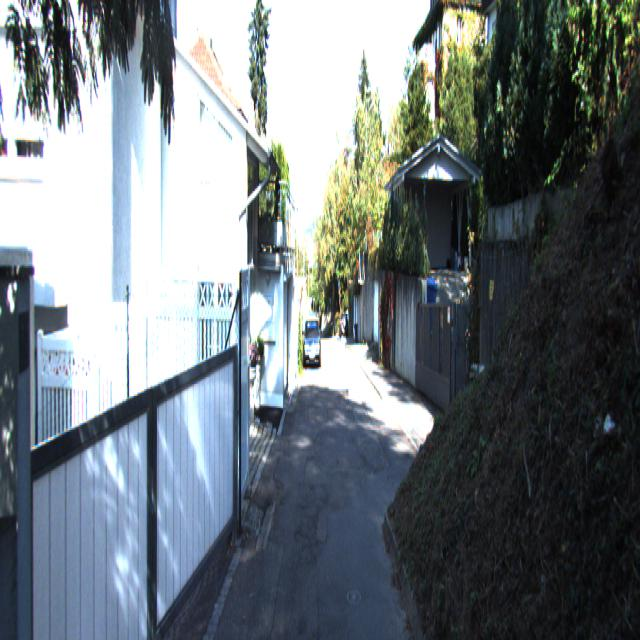Car: (303, 315, 321, 369)
